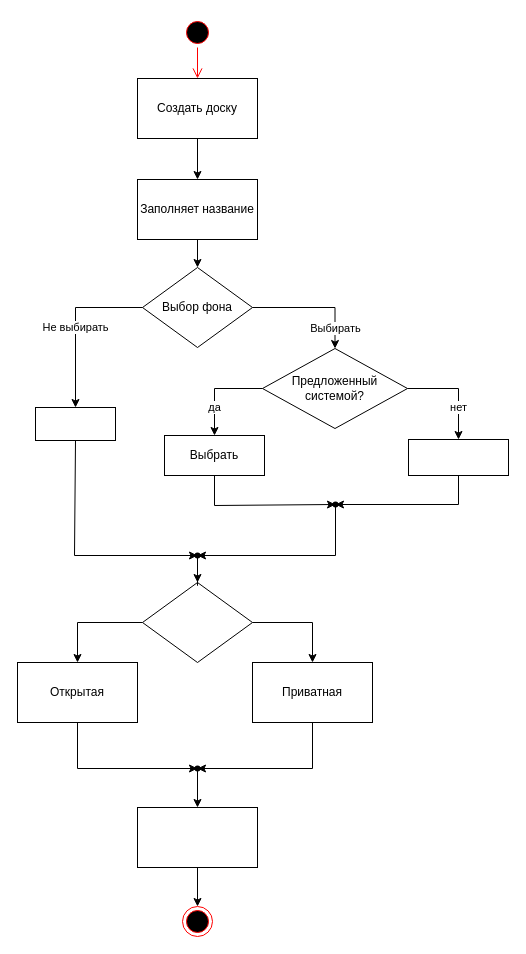
Some shapes in this 526 by 954 pixel diagram are drawn without their labels. Each missing label, with the box of its shape:
Загрузить фон: (408, 438, 508, 476)
Нажимает кнопку "Создать": (136, 806, 258, 868)
Приватность: (142, 582, 252, 662)
Стандартный: (34, 406, 116, 440)
